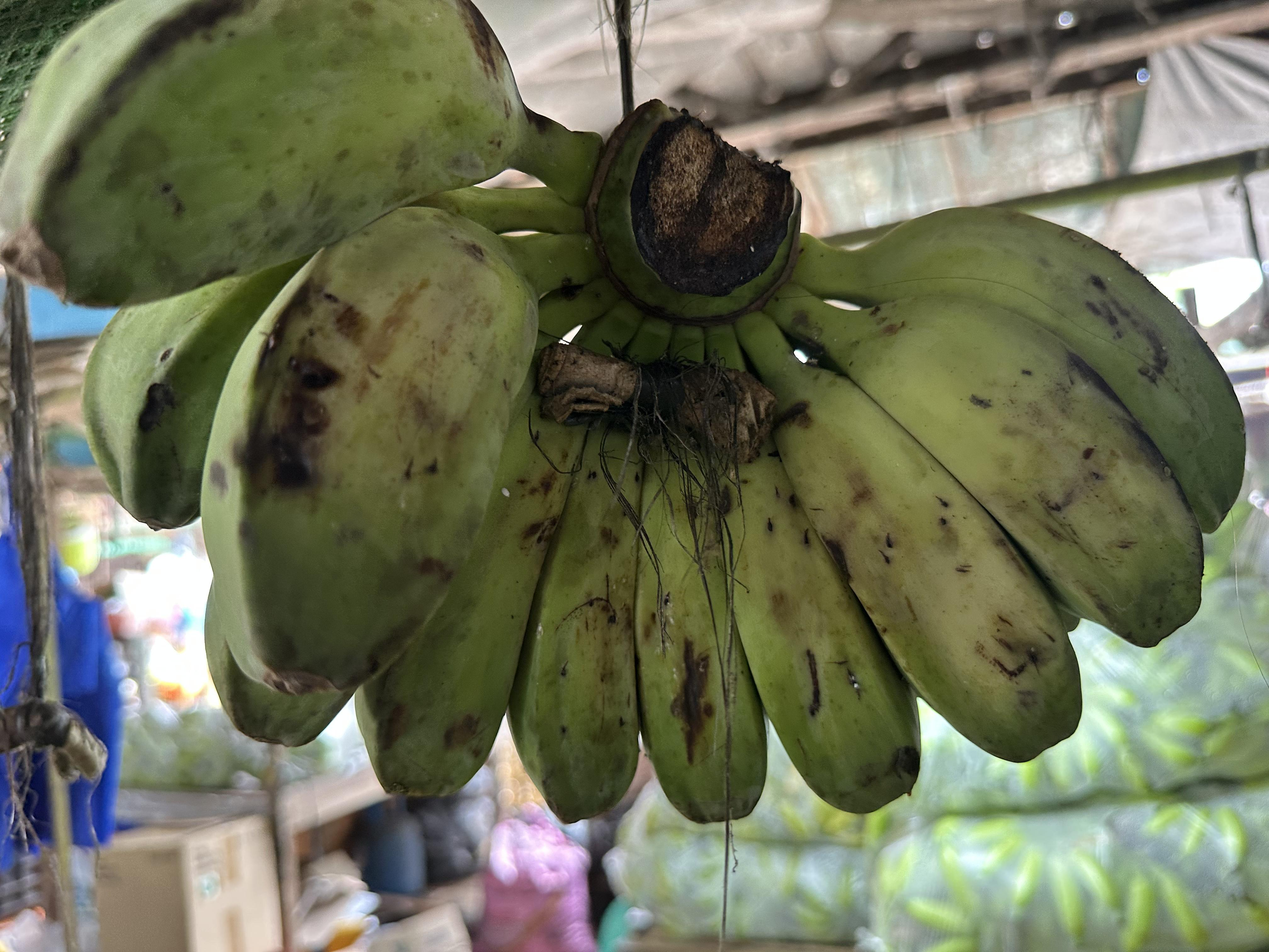underripe: (0, 0, 1245, 824)
